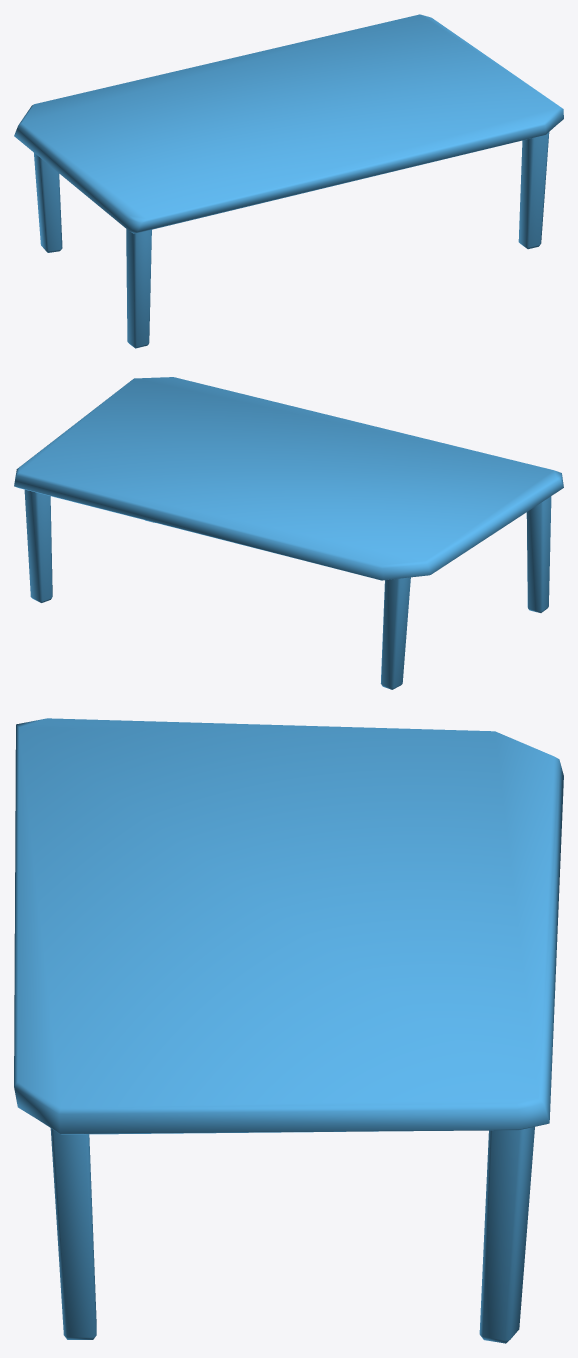
Rendered from table.FBX.
The picture shows the model from 3 angles, top to bottom: view 1: azimuth 30°, elevation 25°; view 2: azimuth 150°, elevation 25°; view 3: azimuth 270°, elevation 25°; orthographic projection. The views are drawn at different scales.
Parts seen in each view (by area): view 1: table; view 2: table; view 3: table.
Boxes of the visible parts, x1,y1,x2,y2 form: table: (14,14,563,348); table: (14,377,563,689); table: (14,718,563,1343).
Size of the model in its own units: 13.89 by 4.09 by 8.15.
